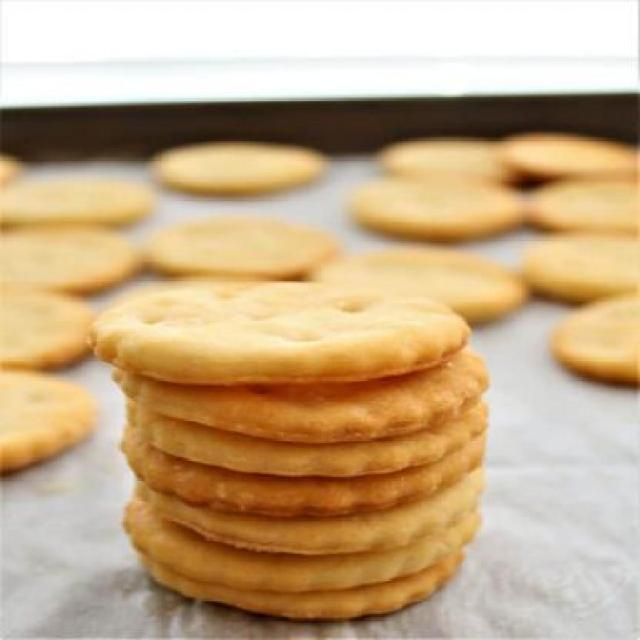Ritz cracker packaged: (90, 276, 508, 599)
